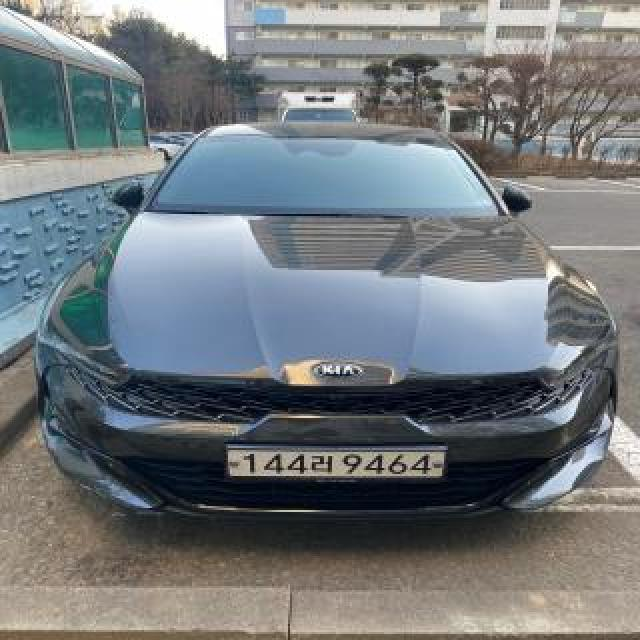car: (33, 118, 626, 555)
illegal_plate: (223, 439, 449, 491)
